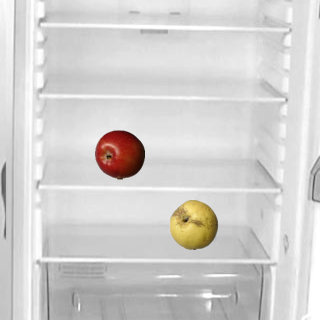Apple Braeburn: (94, 129, 144, 179)
Apple Golden 1: (168, 199, 218, 249)
